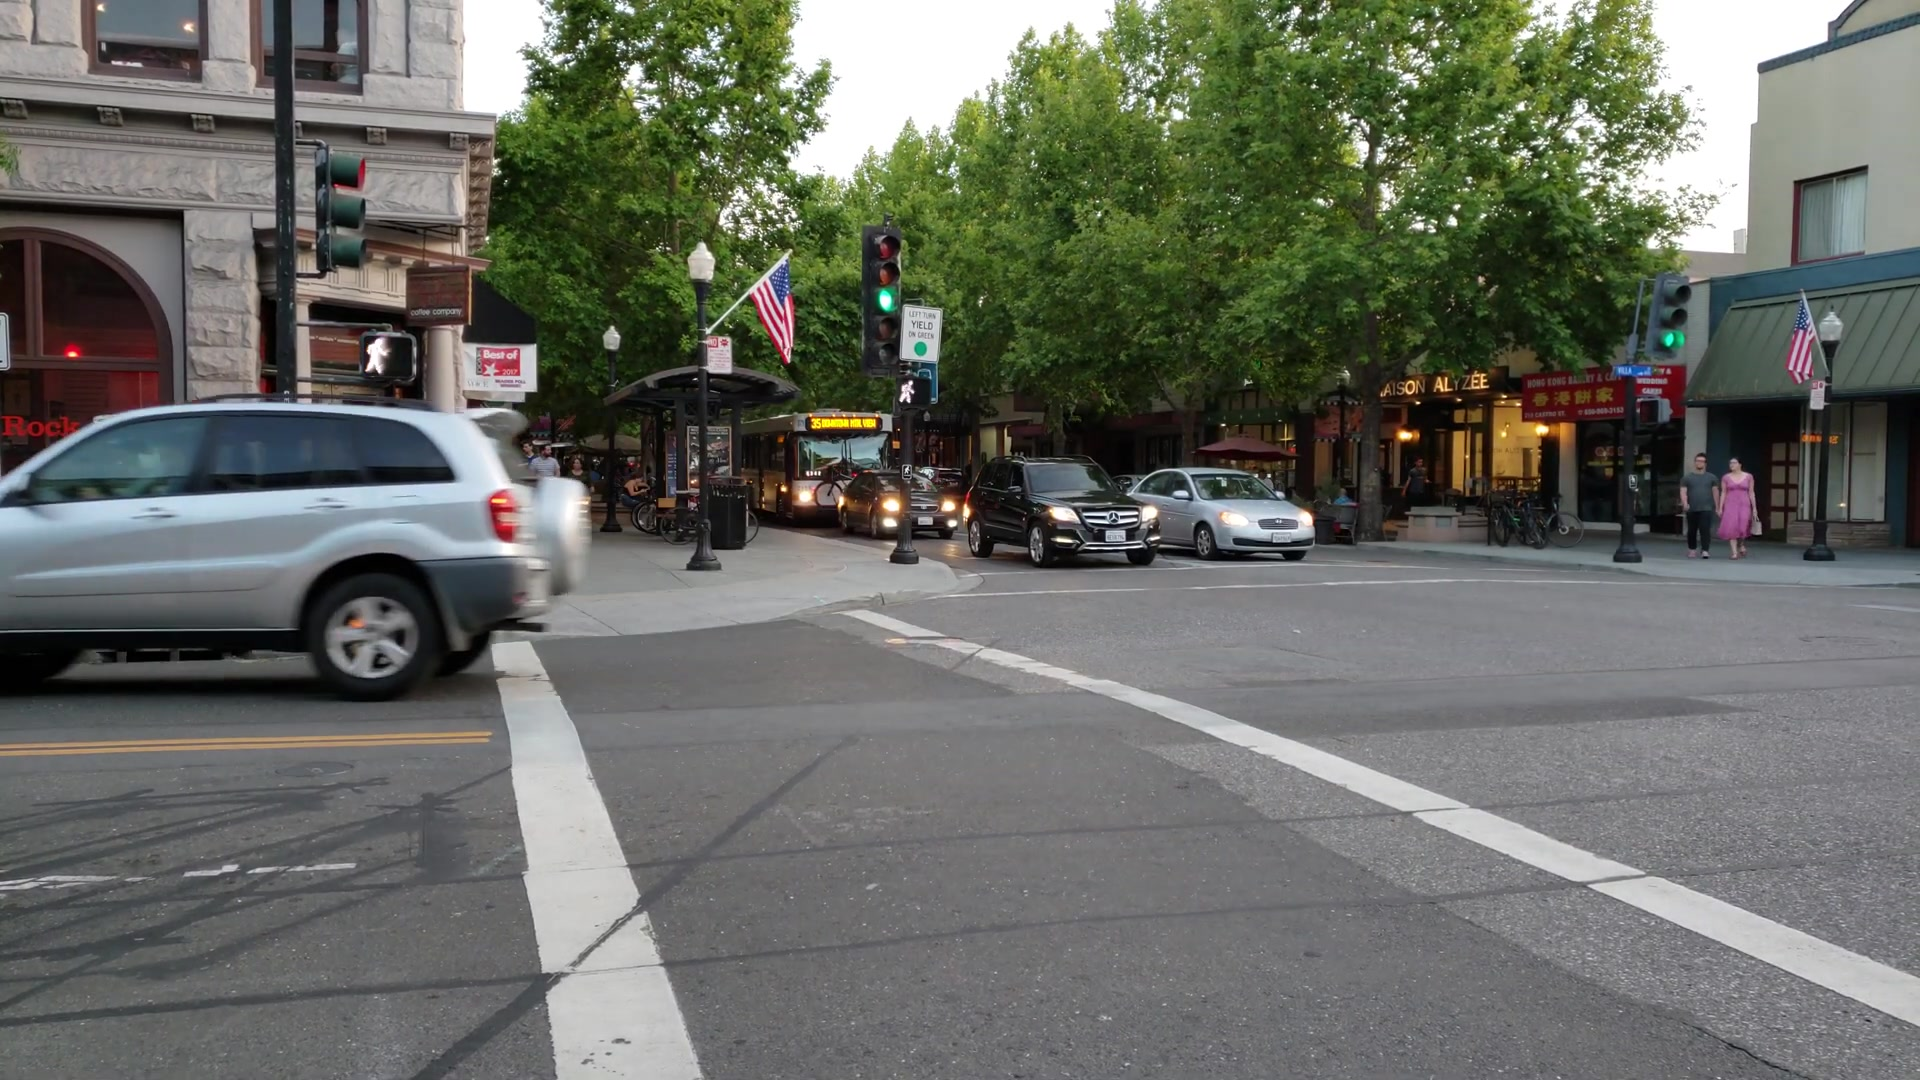vehicle: (3, 400, 593, 705), (967, 455, 1162, 567), (1131, 467, 1317, 556), (738, 415, 893, 522), (843, 469, 957, 535)
